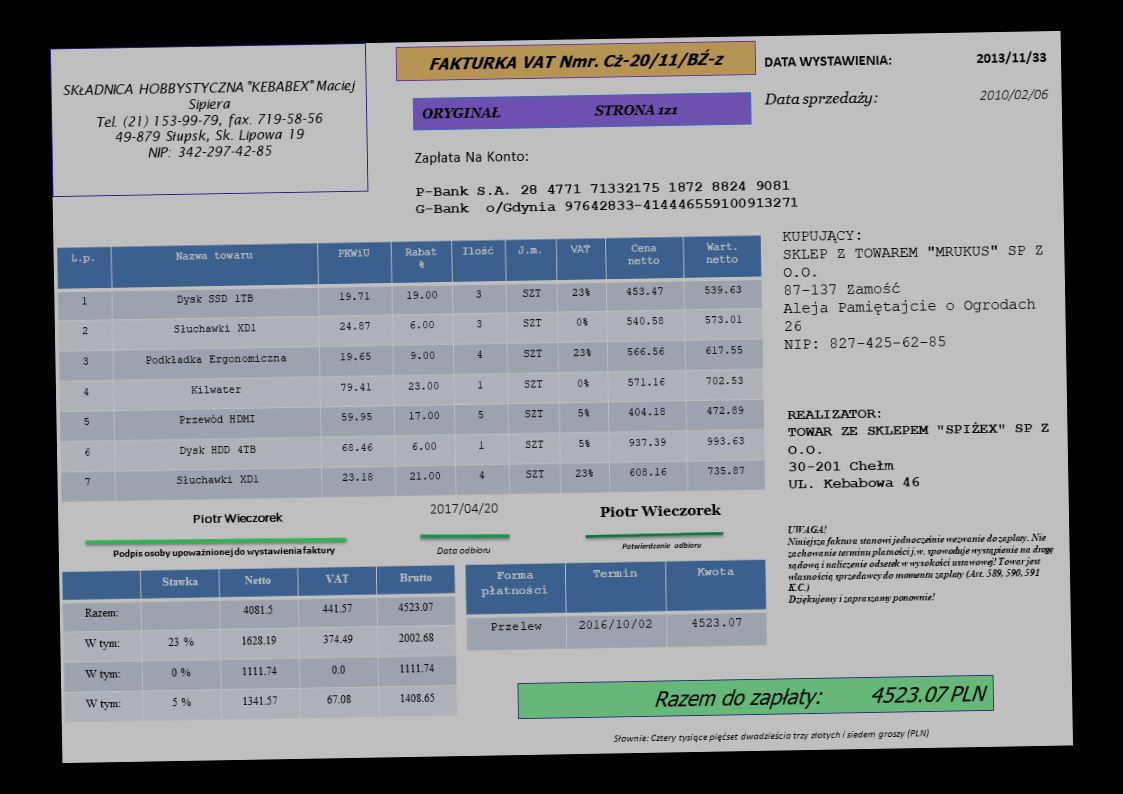Table: (54, 232, 767, 504), (60, 563, 459, 724), (463, 556, 769, 652)
TextBox: (779, 222, 1050, 355), (60, 75, 361, 164), (783, 516, 1060, 609), (784, 402, 1054, 494), (412, 176, 803, 220), (651, 680, 990, 710), (426, 46, 730, 76), (609, 725, 932, 745), (419, 98, 679, 122), (110, 542, 337, 562), (762, 85, 883, 111), (412, 146, 533, 167), (762, 51, 894, 70), (597, 501, 722, 520), (188, 509, 288, 527), (973, 49, 1051, 68), (427, 499, 499, 519), (975, 86, 1052, 104), (619, 539, 702, 553), (433, 542, 492, 558)
